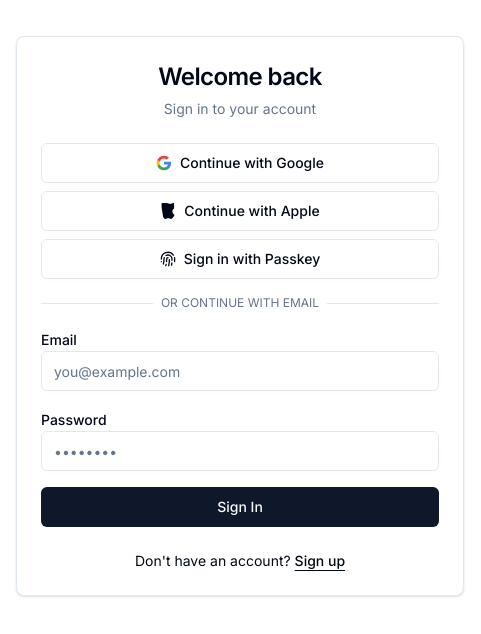
Test: LoginPage › shows validation errors when submitted empty
The width and height of the screenshot is (481, 634).
Click the button "Sign In" at [240, 507], box [41,487,439,527]
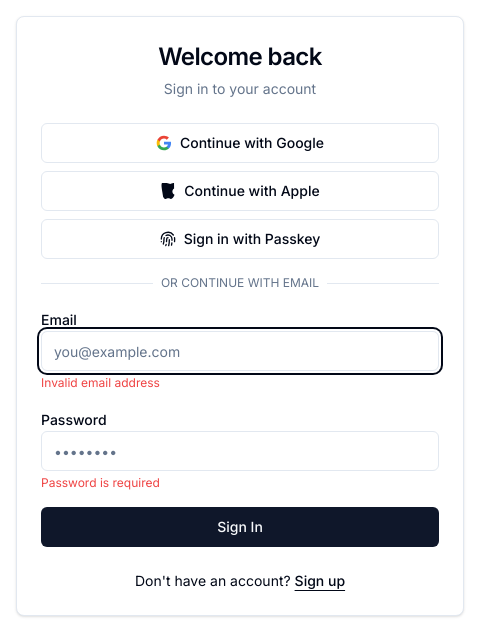
Check: the text "Invalid email address" is shown, box [41,375,160,390]
